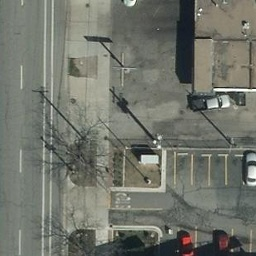car: (187, 91, 230, 112), (242, 147, 256, 185)
